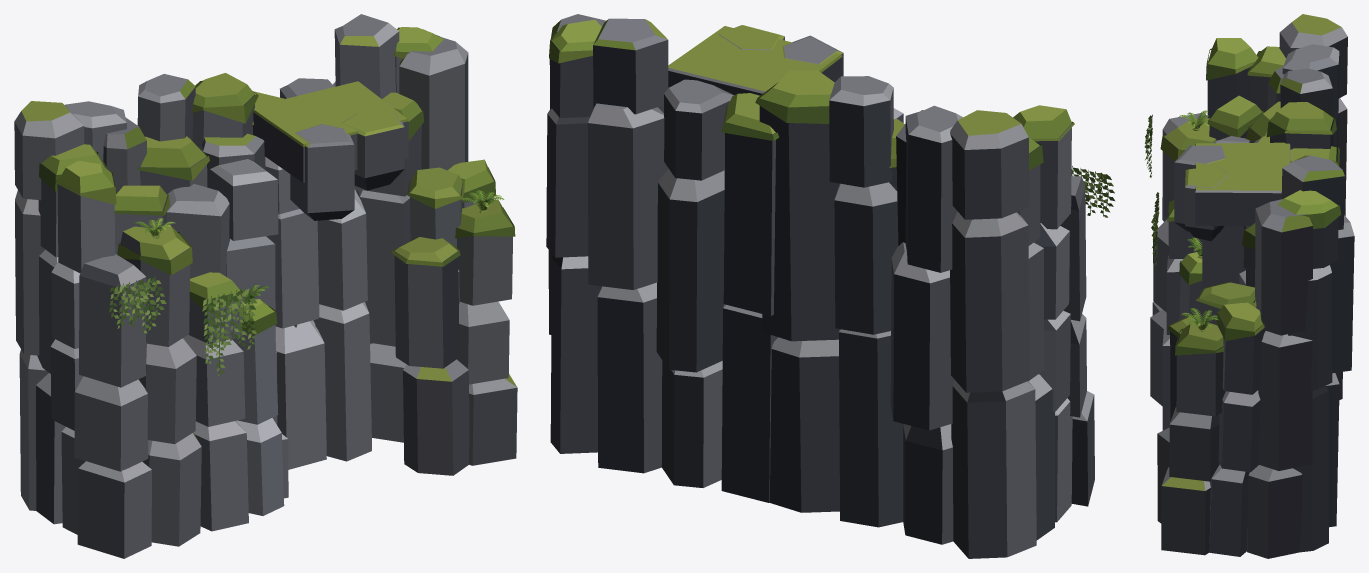
The model's file is wf_basalt_cliff_low.glb.
3 views of the same model, side by side, from view 1: azimuth 30°, elevation 25°; view 2: azimuth 150°, elevation 25°; view 3: azimuth 270°, elevation 25° (orthographic). The views are drawn at different scales.
Parts seen in each view (by area): view 1: wf_basalt_cliff_low; view 2: wf_basalt_cliff_low; view 3: wf_basalt_cliff_low.
Boxes of the visible parts, x1=… form: wf_basalt_cliff_low: x1=14, y1=14, x2=517, y2=558; wf_basalt_cliff_low: x1=546, y1=14, x2=1114, y2=558; wf_basalt_cliff_low: x1=1144, y1=14, x2=1354, y2=558.
Bounding box in the file's own units: 25.11 × 21.11 × 11.26.
